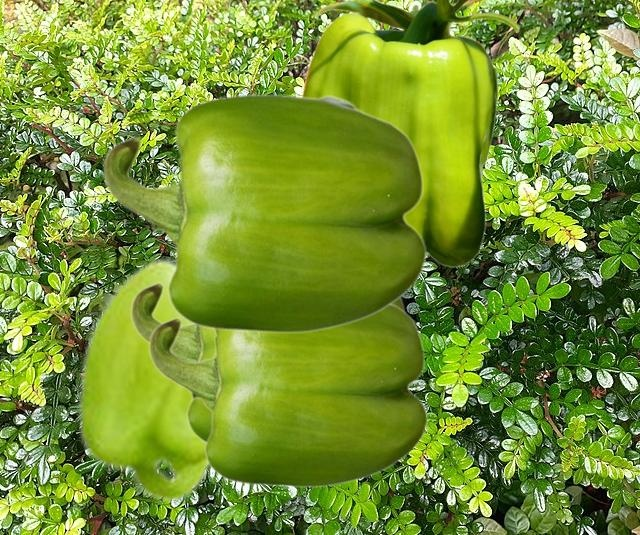bell_pepper: (102, 93, 426, 333), (301, 0, 519, 268), (148, 303, 427, 487), (130, 281, 405, 442), (75, 252, 214, 503)
